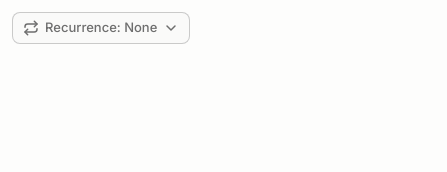
Scenario: RecurrencePicker Repetition State › should toggle inline expansion on chip click and allow selecting presets and modes
Later steps or results of the test are not shown.
Click the button "Recurrence: None" at (101, 28), box x1=12 y1=12 x2=190 y2=44
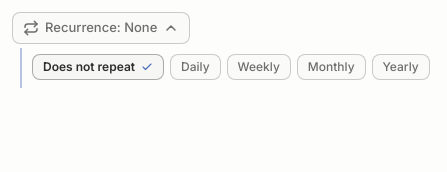
Expected: the button "Weekly" is shown, x1=226 y1=54 x2=291 y2=80
